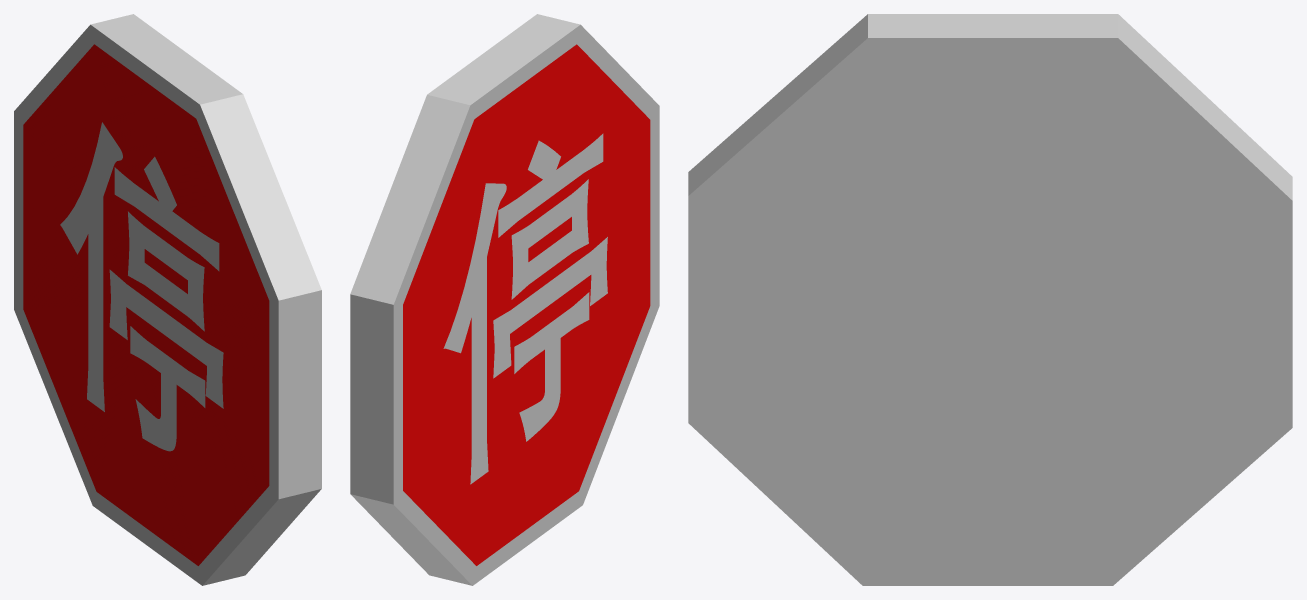
The model's file is Stop.fbx.
The picture shows the model from 3 angles, left to right: view 1: azimuth 30°, elevation 25°; view 2: azimuth 150°, elevation 25°; view 3: azimuth 270°, elevation 25°; orthographic projection. The views are drawn at different scales.
Visible parts, largest first — view 1: Stop; view 2: Stop; view 3: Stop.
Part boxes in pixels (x1,y1,x2,y2): Stop: (14,14,321,585); Stop: (350,14,659,585); Stop: (688,14,1292,585).
Bounding box in the file's own units: 0.0968 × 0.9866 × 0.9864.
